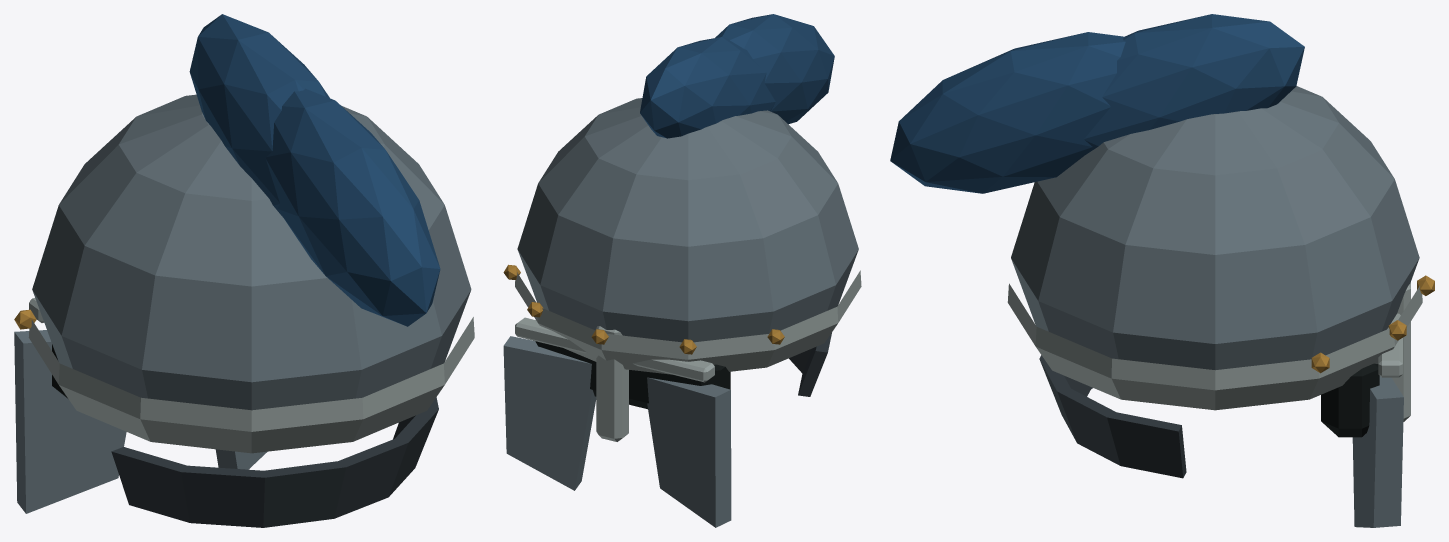
The model's file is Head.glb.
3 views of the same model, side by side, from view 1: azimuth 30°, elevation 25°; view 2: azimuth 150°, elevation 25°; view 3: azimuth 270°, elevation 25° (orthographic). The views are drawn at different scales.
Visible parts, largest first — view 1: Sculpture; view 2: Sculpture; view 3: Sculpture.
Boxes of the visible parts, x1,y1,x2,y2 form: Sculpture: [14, 14, 474, 527]; Sculpture: [503, 14, 861, 527]; Sculpture: [890, 14, 1434, 527].
Size of the model in its own units: 0.67 by 0.852 by 0.8793.
